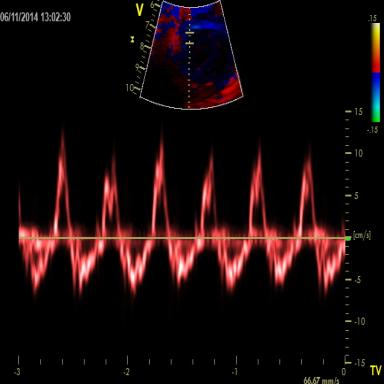Ultrasound-Waves: (18, 114, 344, 349)
